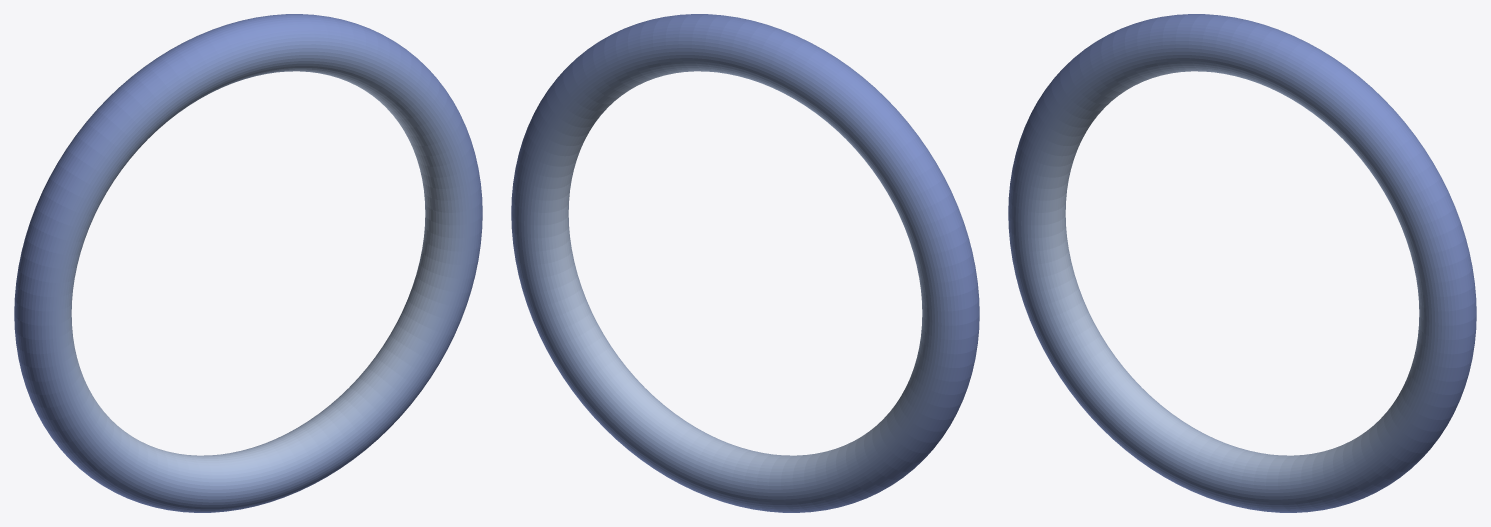
3 views of the same model, side by side, from view 1: azimuth 30°, elevation 25°; view 2: azimuth 150°, elevation 25°; view 3: azimuth 330°, elevation 25° (orthographic).
Visible parts, largest first — view 1: world; view 2: world; view 3: world.
Boxes of the visible parts, x1,y1,x2,y2 form: world: [14, 14, 482, 512]; world: [511, 14, 979, 512]; world: [1008, 14, 1476, 512].
Size of the model in its own units: 28.4 by 28.4 by 3.06.
